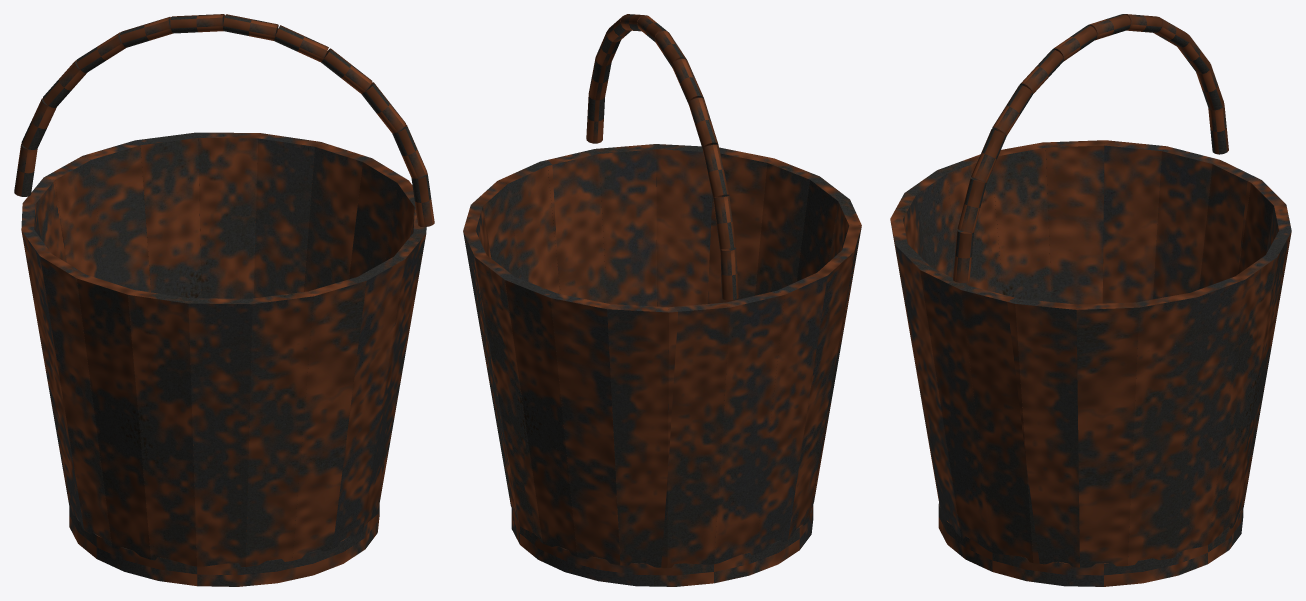
File: SM_OpenMaintenanceBucket_3577593d5f.fbx
The picture shows the model from 3 angles, left to right: view 1: azimuth 30°, elevation 25°; view 2: azimuth 150°, elevation 25°; view 3: azimuth 270°, elevation 25°; orthographic projection. The views are drawn at different scales.
Visible parts, largest first — view 1: SM_OpenMaintenanceBucket_3577593d5f; view 2: SM_OpenMaintenanceBucket_3577593d5f; view 3: SM_OpenMaintenanceBucket_3577593d5f.
Boxes of the visible parts, bbox=[...] form: SM_OpenMaintenanceBucket_3577593d5f: bbox=[14, 14, 434, 586]; SM_OpenMaintenanceBucket_3577593d5f: bbox=[463, 14, 861, 586]; SM_OpenMaintenanceBucket_3577593d5f: bbox=[890, 14, 1291, 586].
Size of what is drawn, in the model's own units: 37.9 by 37.9 by 51.79.
2 materials, 1 textured.
